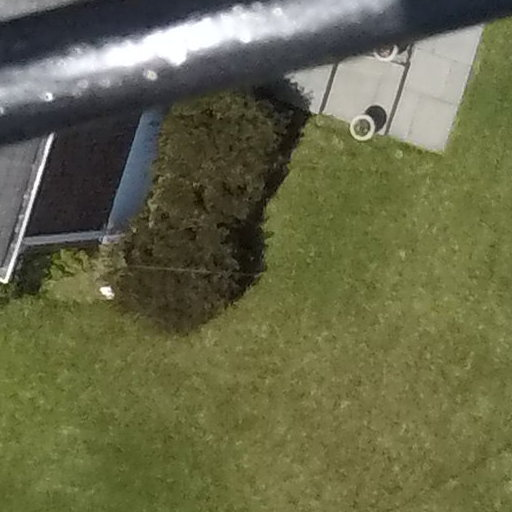flower pot: (343, 109, 375, 143)
